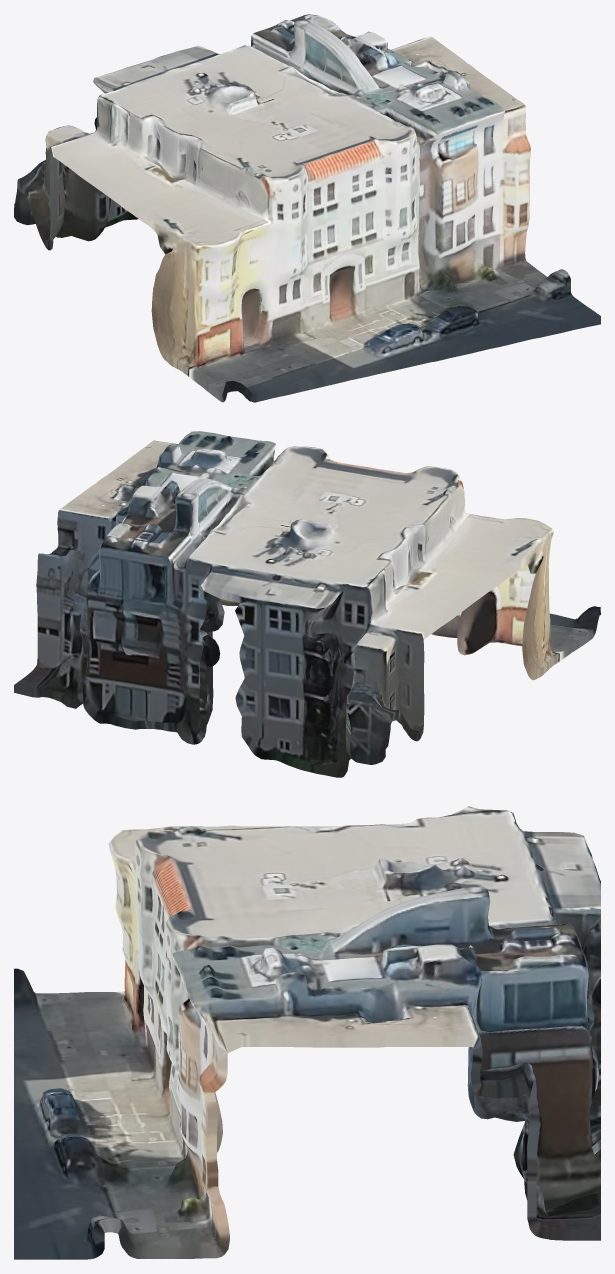
File: z20-167743-405194-h0-yup-uvflip-v3-world.glb
3 renders of one model, top to bottom at view 1: azimuth 30°, elevation 25°; view 2: azimuth 150°, elevation 25°; view 3: azimuth 270°, elevation 25°, orthographic. The views are drawn at different scales.
Bounding box in the file's own units: 30.2 × 16.28 × 30.32.
1 material, 1 textured.
